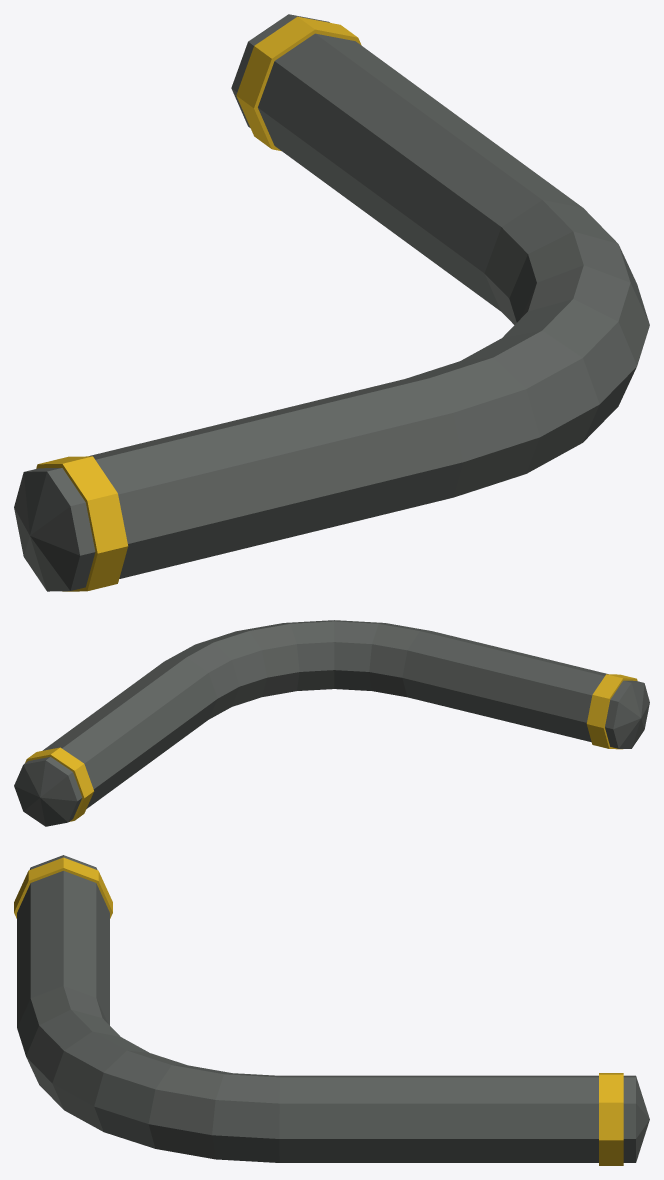
The model's file is pipe_corner.glb.
The picture shows the model from 3 angles, top to bottom: view 1: azimuth 30°, elevation 25°; view 2: azimuth 150°, elevation 25°; view 3: azimuth 270°, elevation 25°; orthographic projection. The views are drawn at different scales.
Parts seen in each view (by area): view 1: surf_climb_pipe_corner; view 2: surf_climb_pipe_corner; view 3: surf_climb_pipe_corner.
Part boxes in pixels (x1,y1,x2,y2): surf_climb_pipe_corner: (14,14,649,591); surf_climb_pipe_corner: (14,620,649,826); surf_climb_pipe_corner: (14,855,649,1165).
Bounding box in the file's own units: 0.9525 × 0.16 × 1.03.
